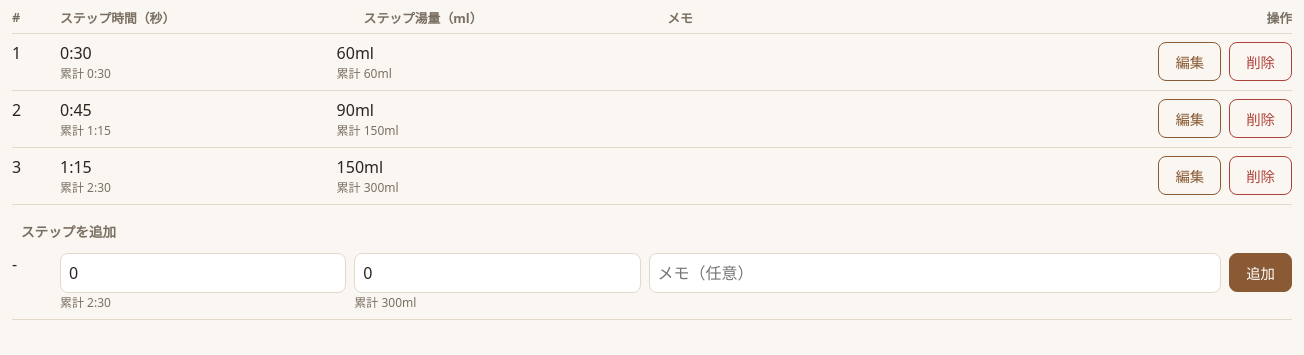
PourStepEditor.vue › startEdit / saveEdit › startEdit populates the edit form with the step's delta values, not its raw cumulative values
What coordinates should you click on to do the following:
click the button "編集" in the row of "累計 150ml"
I would click on:
 (1190, 118)
Its box is [1158,99,1221,138].
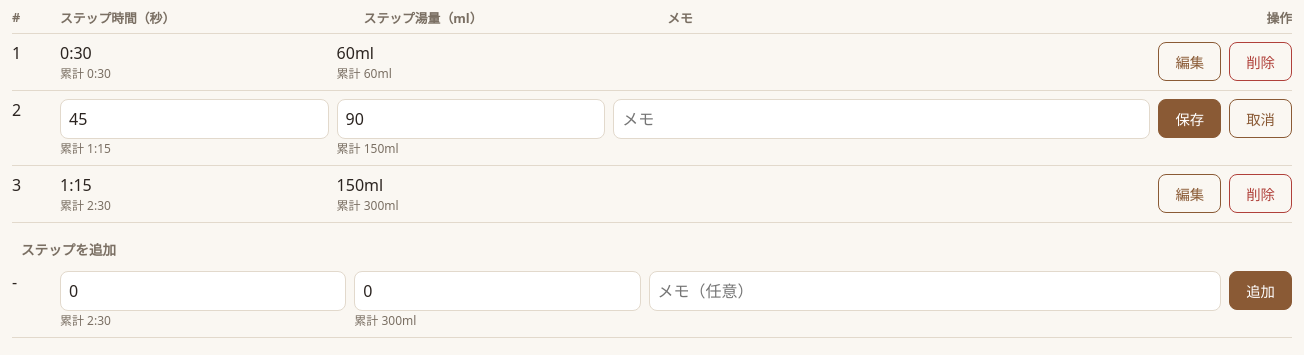
Result: the number field titled "ステップ時間(秒)" holds "45" at [60,99,329,139]
Result: the number field titled "ステップ湯量(ml)" holds "90" at [337,99,605,139]
